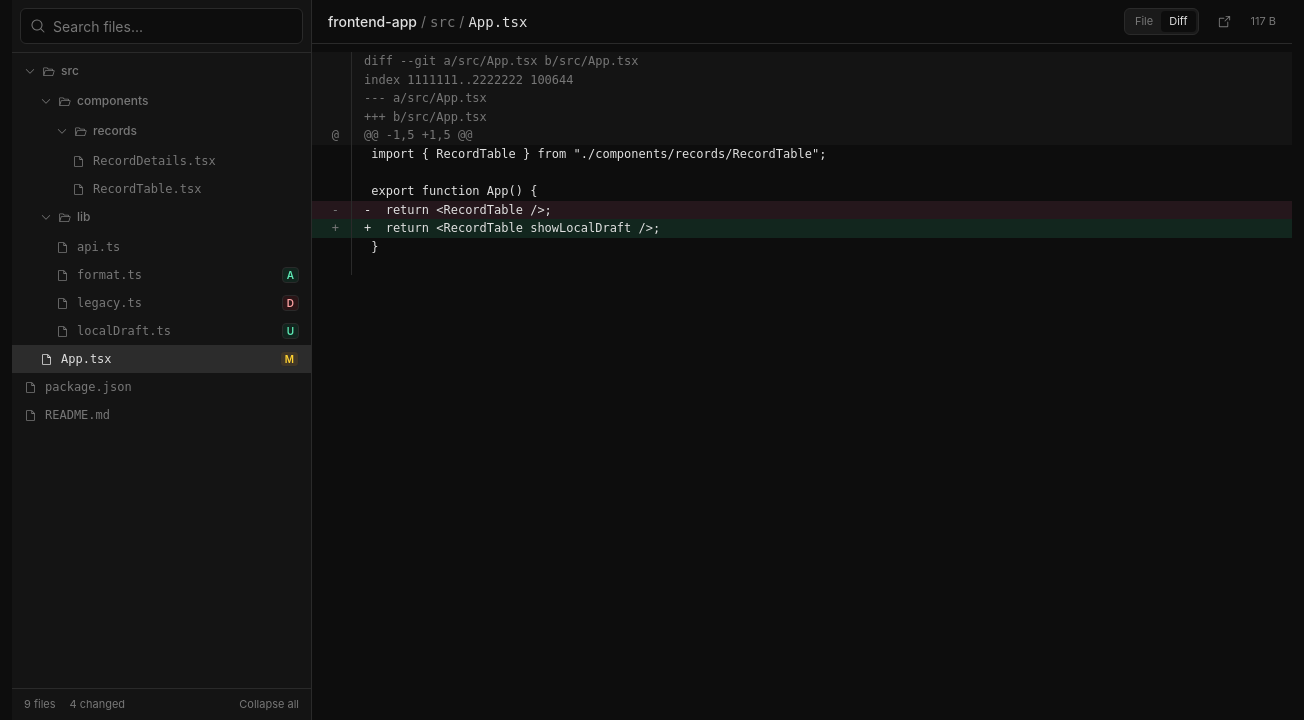
Test: RepositoryExplorerPanel › loads blame details when a file line is selected
Click the button "File": (1144, 22) [1127,11,1161,32]
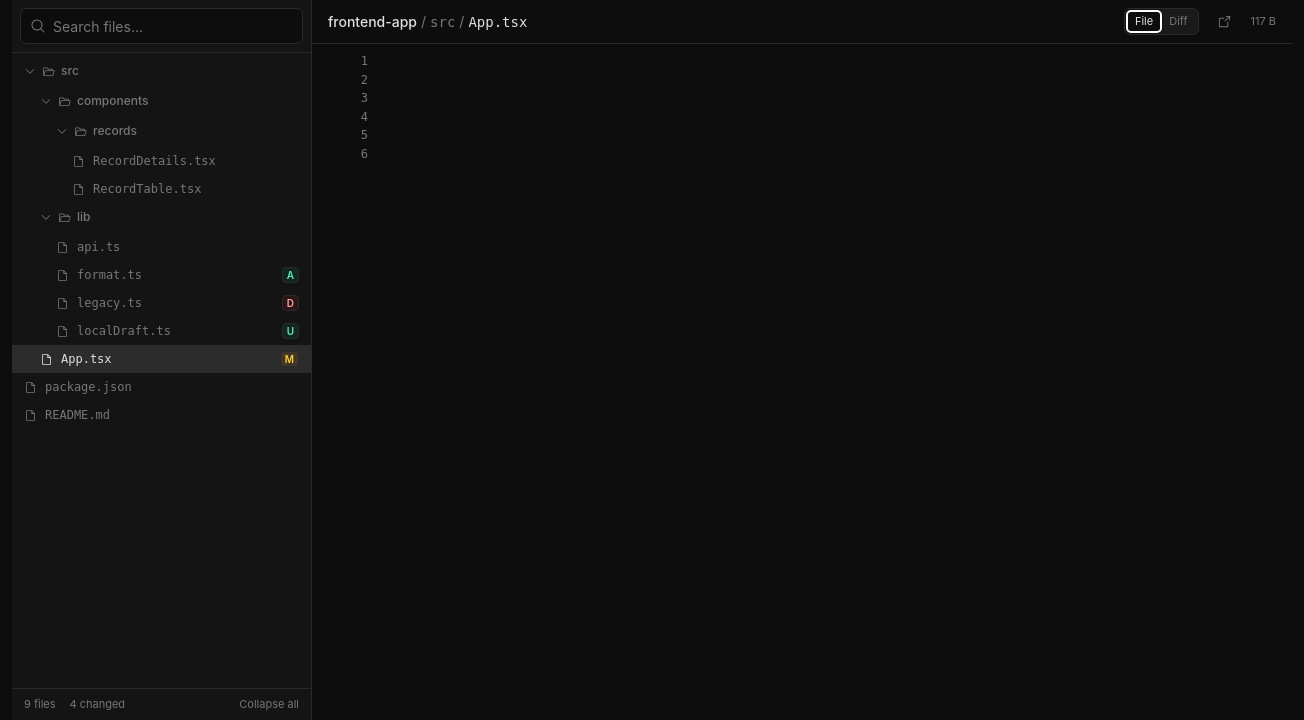
Click the button named "Select line 4": (364, 117) [312,108,1292,126]
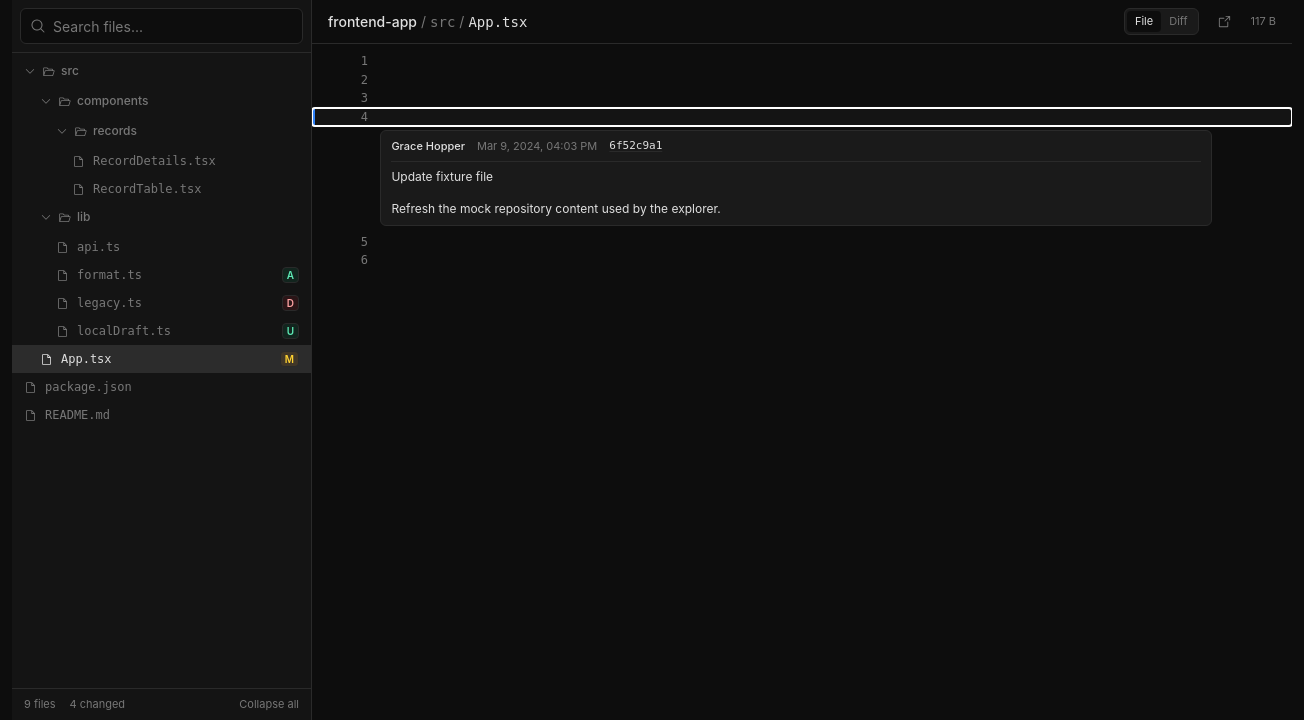
Now the text "Grace Hopper" is shown, box [391,139,465,153]
Now the link "6f52c9a1" is shown, box [609,139,662,153]
Now the text "Refresh the mock repository content" is shown, box [391,169,721,216]
Click the button named "Select line 4": (364, 117) [312,108,1292,126]
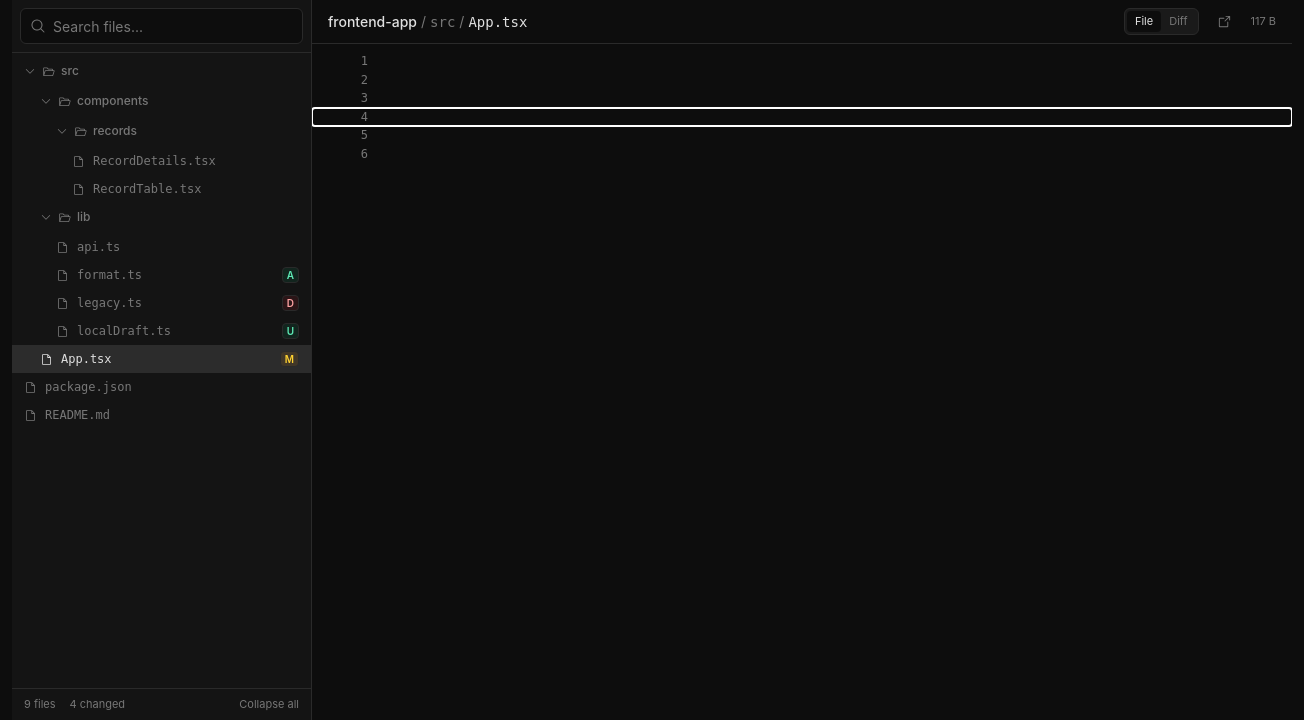
Now the text "Grace Hopper" is gone
